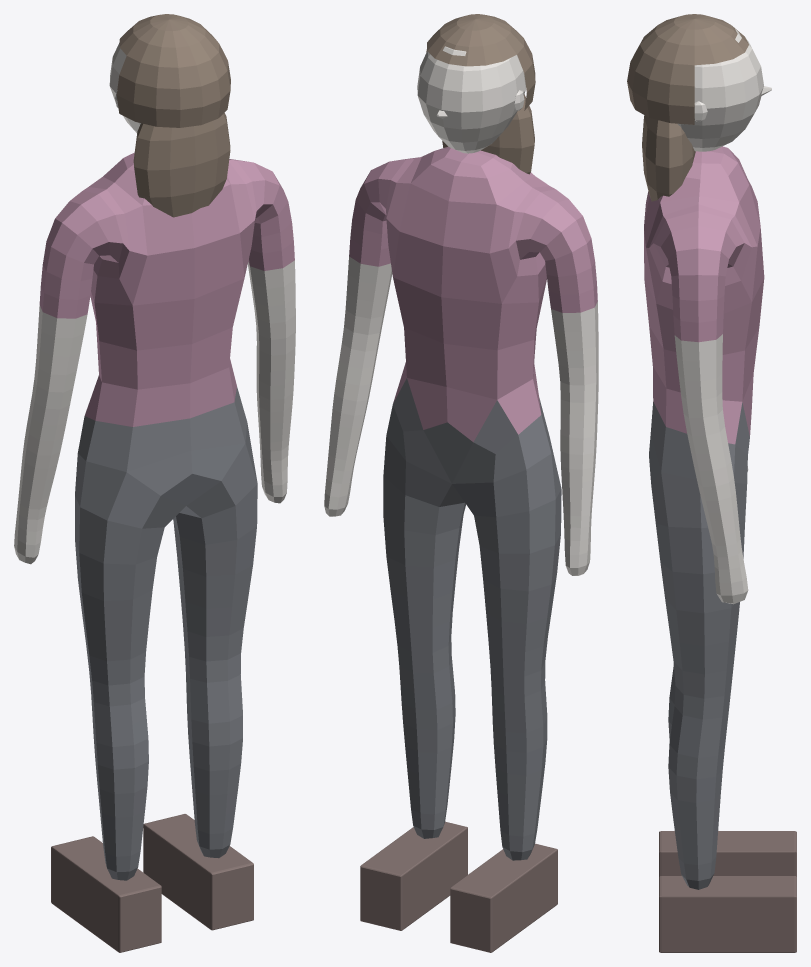
Rendered from woman.glb.
3 views of the same model, side by side, from view 1: azimuth 30°, elevation 25°; view 2: azimuth 150°, elevation 25°; view 3: azimuth 270°, elevation 25° (orthographic). The views are drawn at different scales.
Visible parts, largest first — view 1: woman; view 2: woman; view 3: woman.
Boxes of the visible parts, x1,y1,x2,y2 form: woman: (14, 14, 295, 952); woman: (324, 14, 598, 952); woman: (627, 14, 796, 952).
Size of the model in its own units: 0.5146 by 1.67 by 0.2847.
